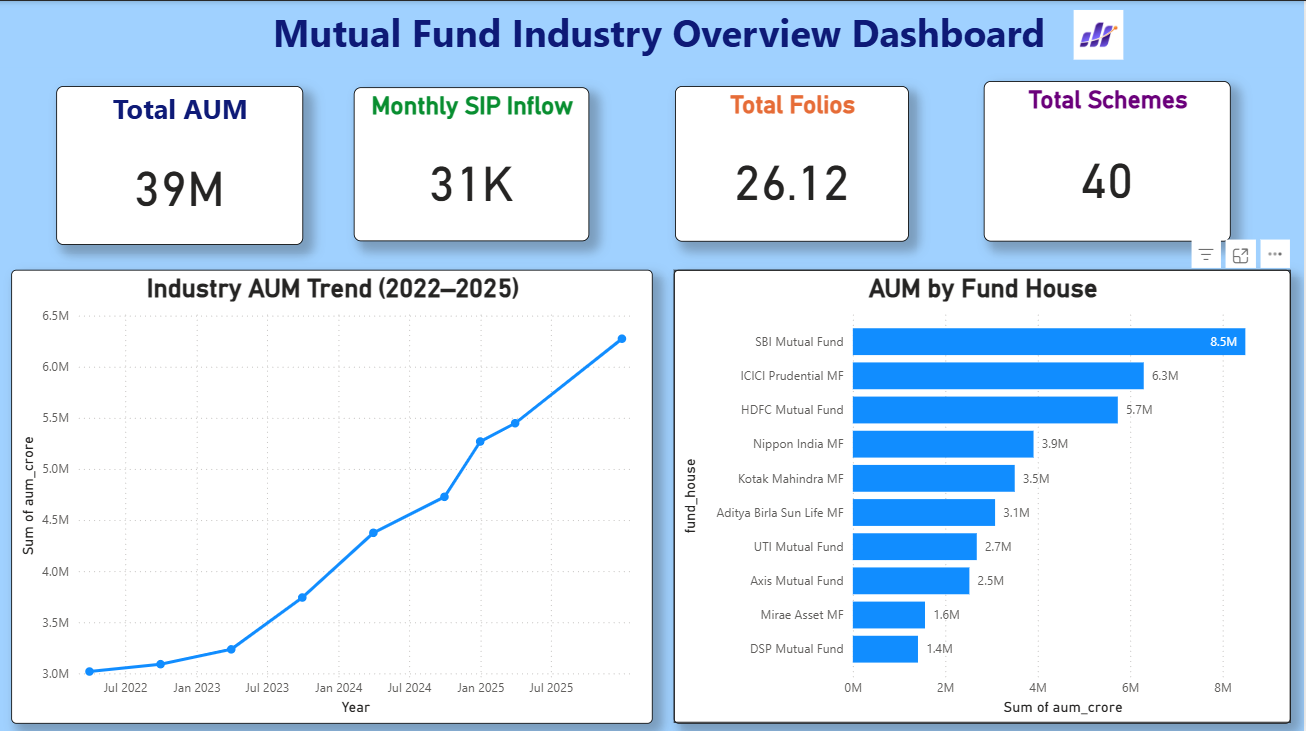

This screenshot's page, from the dashboard's own definition file:
{"tool":"powerbi","page":{"name":"Industry Overview","canvas":[1280,720],"ordinal":0},"visuals":[{"type":"textbox","box":[0,0,1279.8,65],"z":0},{"type":"card","title":"  Total AUM","fields":{"Values":["Sum(clean_03_aum_by_fund_house.aum_crore)"]},"box":[55.1,83.4,242.2,155.7],"z":1000},{"type":"card","title":"Total Folios","fields":{"Values":["Max(clean_06_industry_folio_count.total_folios_crore)"]},"box":[662.2,83.4,229.6,152.6],"z":2000},{"type":"card","title":"Monthly SIP Inflow","fields":{"Values":["Max(clean_04_monthly_sip_inflows.sip_inflow_crore)"]},"box":[347.6,84.9,231.2,151],"z":3000},{"type":"card","title":"Total Schemes","fields":{"Values":["CountNonNull(clean_01_fund_master.amfi_code)"]},"box":[965.3,78.4,242.6,158],"z":4000},{"type":"lineChart","title":"Industry AUM Trend (2022–2025)","fields":{"Y":["Sum(clean_03_aum_by_fund_house.aum_crore)"],"Category":["clean_03_aum_by_fund_house.date.Variation.Date Hierarchy.Year","clean_03_aum_by_fund_house.date.Variation.Date Hierarchy.Quarter","clean_03_aum_by_fund_house.date.Variation.Date Hierarchy.Month","clean_03_aum_by_fund_house.date.Variation.Date Hierarchy.Day"]},"box":[11.2,263.7,629.4,445.3],"z":5000},{"type":"clusteredBarChart","title":"AUM by Fund House","fields":{"Category":["clean_03_aum_by_fund_house.fund_house"],"Y":["Sum(clean_03_aum_by_fund_house.aum_crore)"]},"box":[661.8,263.7,605.8,445.3],"z":6000},{"type":"image","box":[1048.6,0,58.6,65.7],"z":6001}]}

Visuals, with their boxes in screenshot pixels (x1, y1, x2, y2), scaled from the page's 1280x720 canvas onto the 1306x731 screenshot:
textbox: detection(0, 0, 1305, 66)
"  Total AUM" card: detection(56, 85, 303, 243)
"Total Folios" card: detection(676, 85, 910, 240)
"Monthly SIP Inflow" card: detection(355, 86, 591, 240)
"Total Schemes" card: detection(985, 80, 1232, 240)
"Industry AUM Trend (2022–2025)" lineChart: detection(11, 268, 654, 720)
"AUM by Fund House" clusteredBarChart: detection(675, 268, 1293, 720)
image: detection(1070, 0, 1130, 67)
